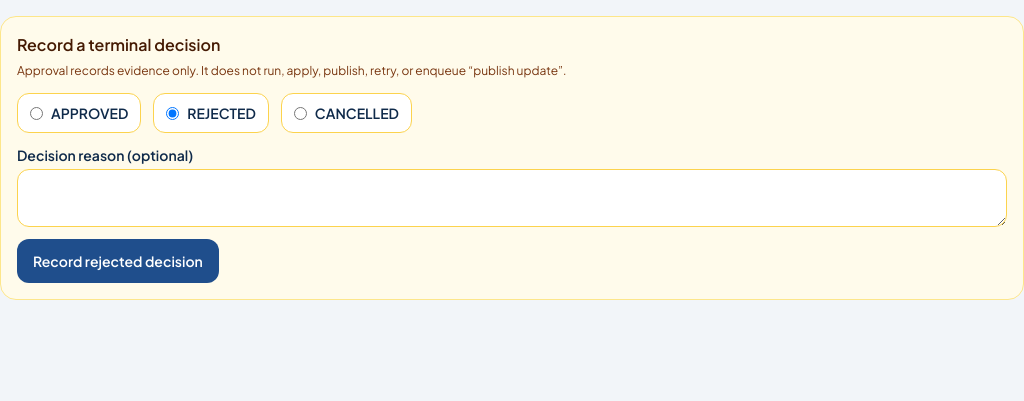
ApprovalDecisionForm › serializes writes and requires a state refresh after an ambiguous outcome
Step 1. Click the button "Record rejected decision" → (118, 261), box [17, 239, 219, 283]
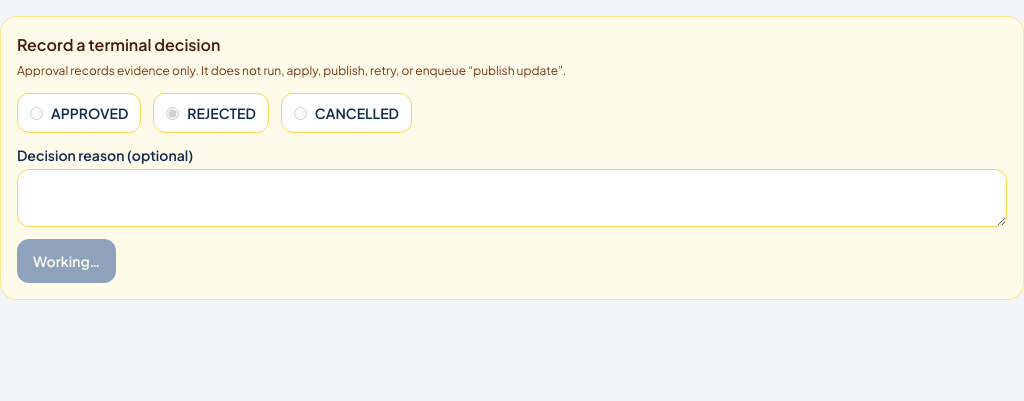
Step 2. Click the button named "Record rejected decision" → (66, 261), box [17, 239, 116, 283]
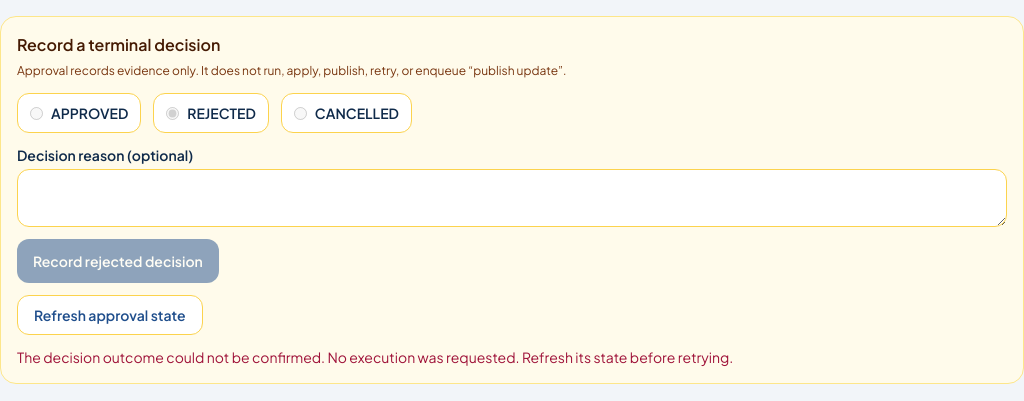
Check: the message shows "could not be confirmed", box [17, 348, 733, 366]
Check: the button "Refresh approval state" is shown, box [17, 295, 202, 335]
